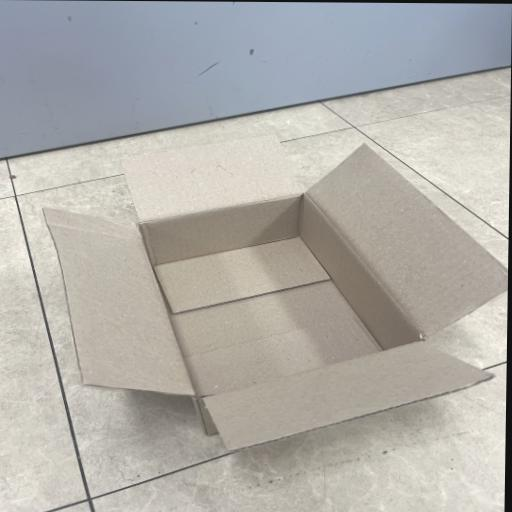box: (42, 134, 512, 452)
opened: (42, 133, 512, 452)
